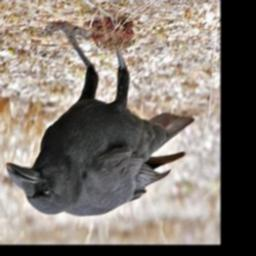Crow: (6, 22, 195, 218)
